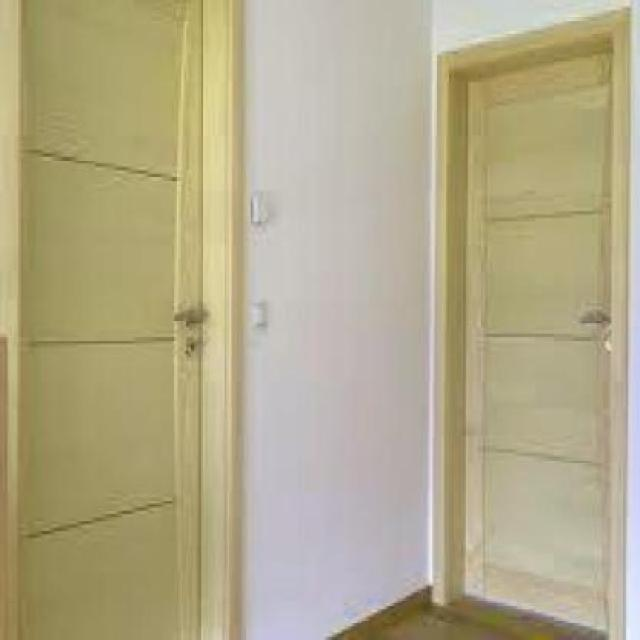door: (0, 0, 251, 640), (434, 6, 632, 640)
